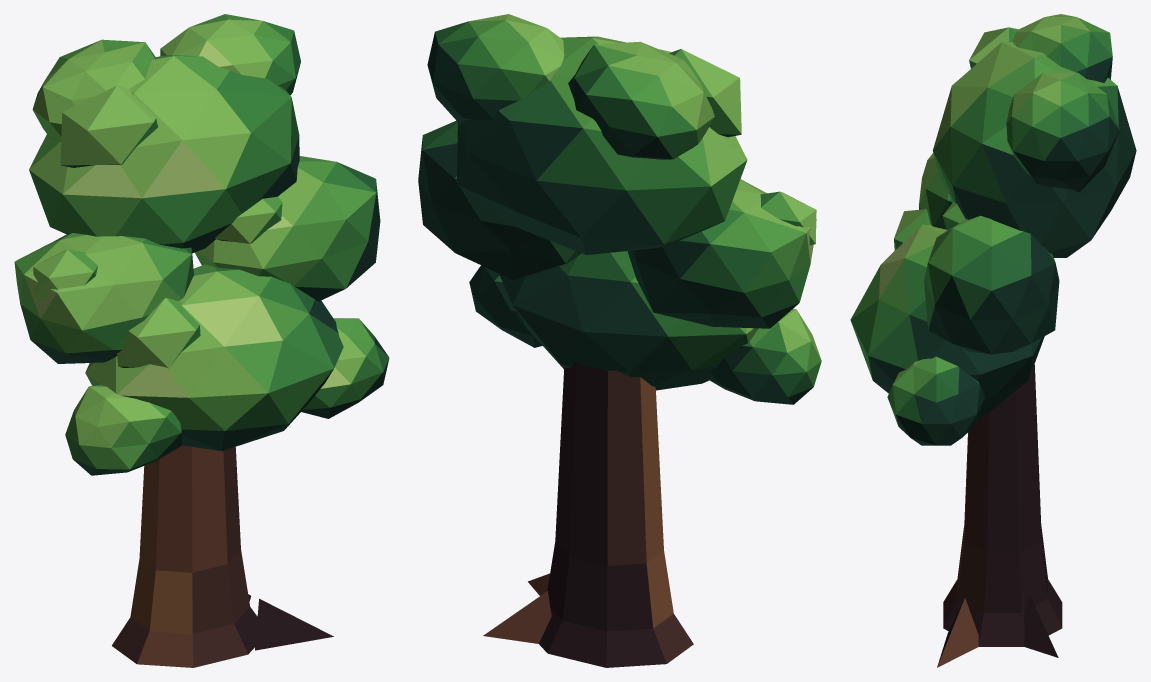
Rendered from tree_tree3.glb.
3 renders of one model, left to right at view 1: azimuth 30°, elevation 25°; view 2: azimuth 150°, elevation 25°; view 3: azimuth 270°, elevation 25°, orthographic. The views are drawn at different scales.
Parts seen in each view (by area): view 1: tree3; view 2: tree3; view 3: tree3.
Part boxes in pixels (left/top/right/bottom): tree3: left=14, top=14, right=389, bottom=667; tree3: left=418, top=14, right=821, bottom=667; tree3: left=850, top=14, right=1136, bottom=667.
Bounding box in the file's own units: 0.9629 × 1.5 × 0.688.
